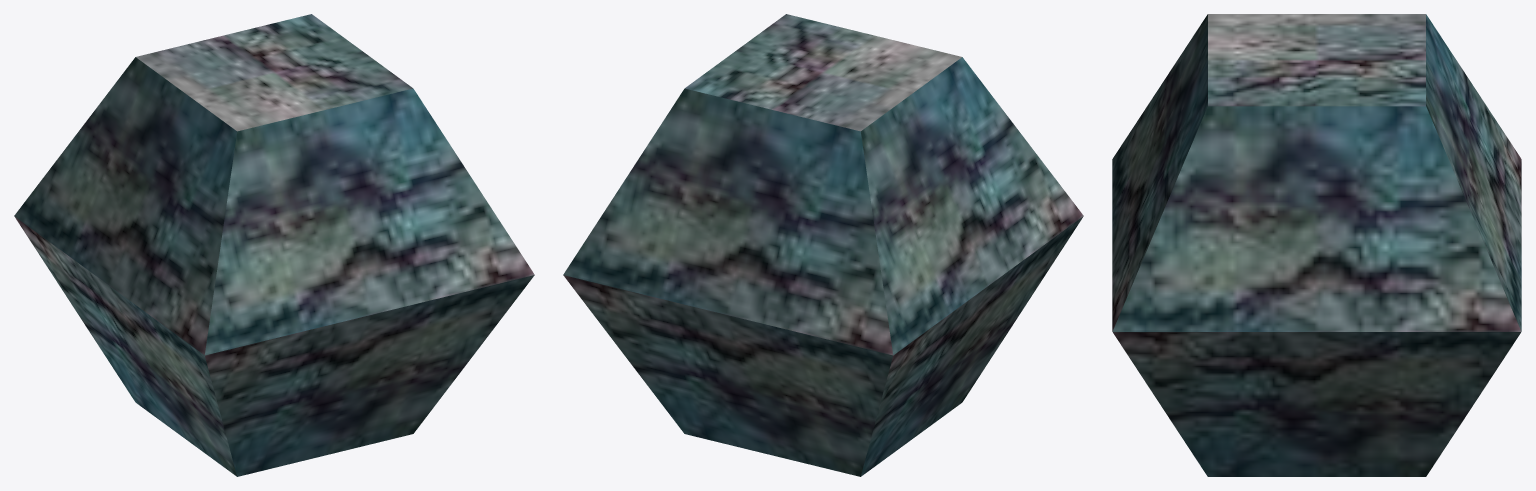
Rendered from DiamondTJS.gltf.
3 renders of one model, left to right at view 1: azimuth 30°, elevation 25°; view 2: azimuth 150°, elevation 25°; view 3: azimuth 270°, elevation 25°, orthographic. The views are drawn at different scales.
Parts seen in each view (by area): view 1: Solid1; view 2: Solid1; view 3: Solid1.
Part boxes in pixels (bbox=[...]): Solid1: bbox=[14, 14, 534, 476]; Solid1: bbox=[563, 14, 1083, 476]; Solid1: bbox=[1112, 14, 1521, 476].
Bounding box in the file's own units: 0.02 × 0.02 × 0.02.
Materials: 1 (1 with a texture image).
